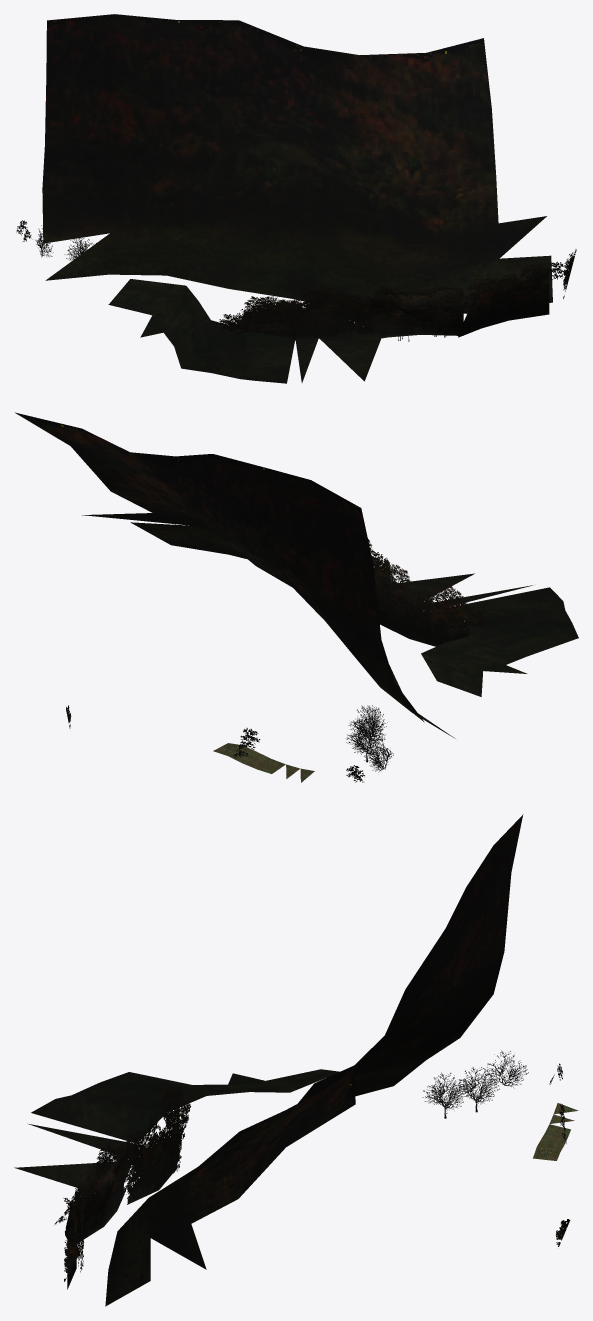
Rendered from cell_4_-8.gltf.
The picture shows the model from 3 angles, top to bottom: view 1: azimuth 30°, elevation 25°; view 2: azimuth 150°, elevation 25°; view 3: azimuth 270°, elevation 25°; orthographic projection. The views are drawn at different scales.
Visible parts, largest first — view 1: cell_4_-8; view 2: cell_4_-8; view 3: cell_4_-8.
Part boxes in pixels (x1,y1,x2,y2): cell_4_-8: [16, 14, 576, 383]; cell_4_-8: [15, 412, 578, 782]; cell_4_-8: [14, 814, 578, 1306].
Bounding box in the file's own units: 303 × 173 × 293.
Materials: 10 (10 with a texture image).
